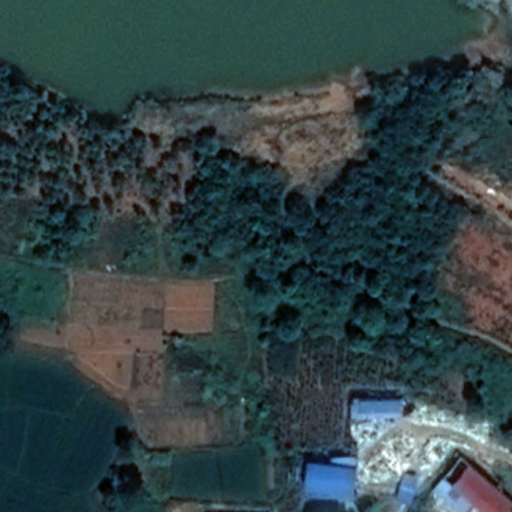msw: (353, 410, 489, 480)
